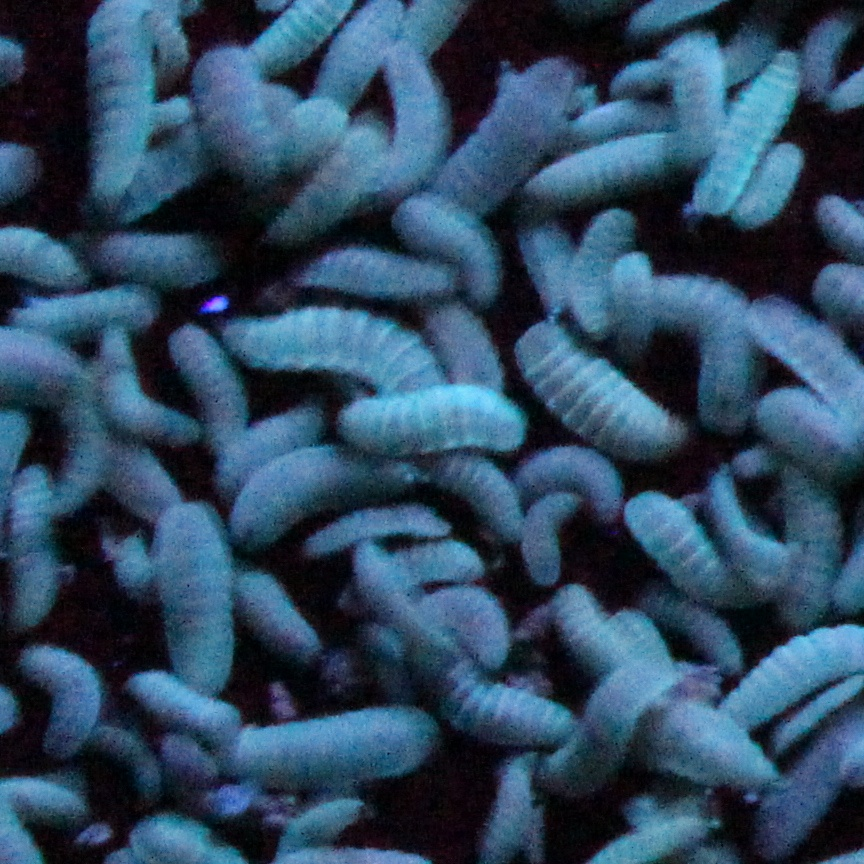larve: (232, 433, 425, 548), (520, 328, 689, 454), (442, 59, 570, 205), (230, 304, 442, 391), (694, 48, 798, 219), (541, 662, 691, 780), (239, 698, 435, 779), (156, 497, 230, 698), (627, 491, 751, 607), (192, 47, 287, 190), (273, 122, 382, 243), (532, 129, 689, 210), (341, 386, 523, 450), (103, 324, 199, 443), (165, 316, 249, 450), (399, 195, 503, 302), (360, 554, 460, 661), (439, 664, 567, 746), (776, 469, 844, 618), (565, 207, 641, 336), (515, 435, 622, 524), (304, 497, 453, 559), (227, 564, 322, 660), (23, 645, 99, 759), (94, 233, 223, 291), (15, 460, 54, 633), (310, 257, 453, 298), (735, 141, 801, 228)
